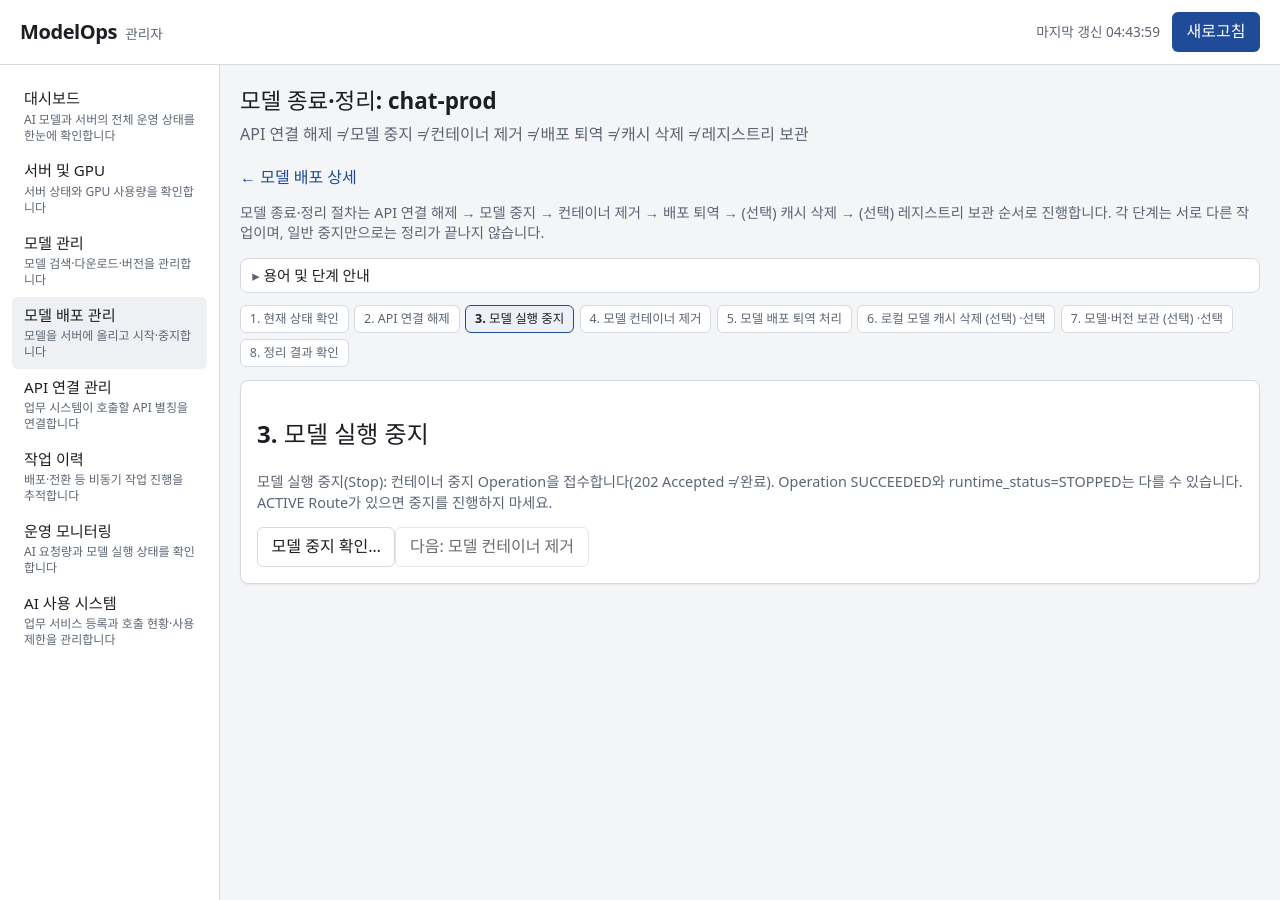
Test: DecommissionWizardPage › keeps operation_id when enqueue succeeds but detail fetch fails
Click the button "모델 중지 확인…".
click(326, 547)  # box [257,527,396,567]
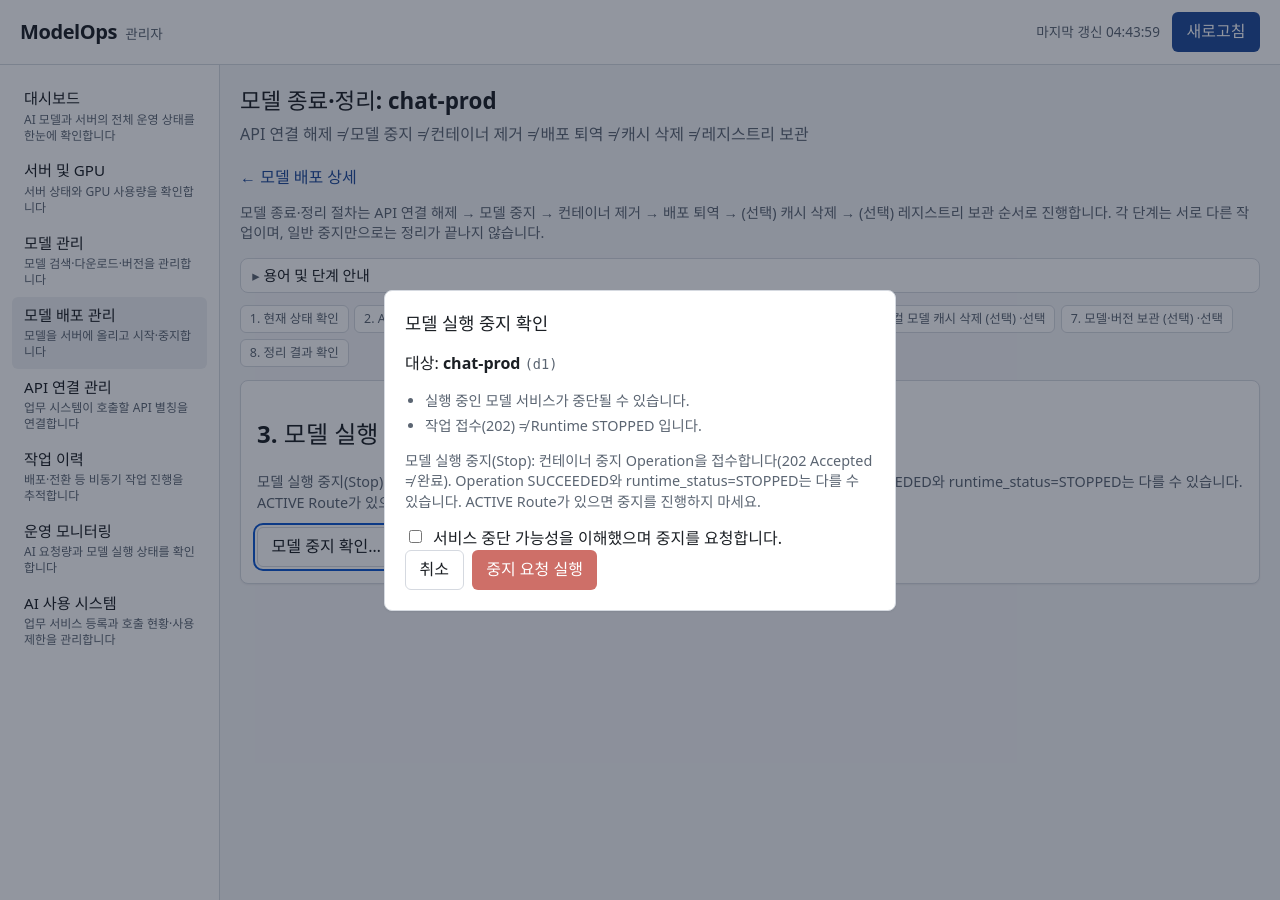
Click the checkbox.
click(416, 536)  # box [409,530,422,543]
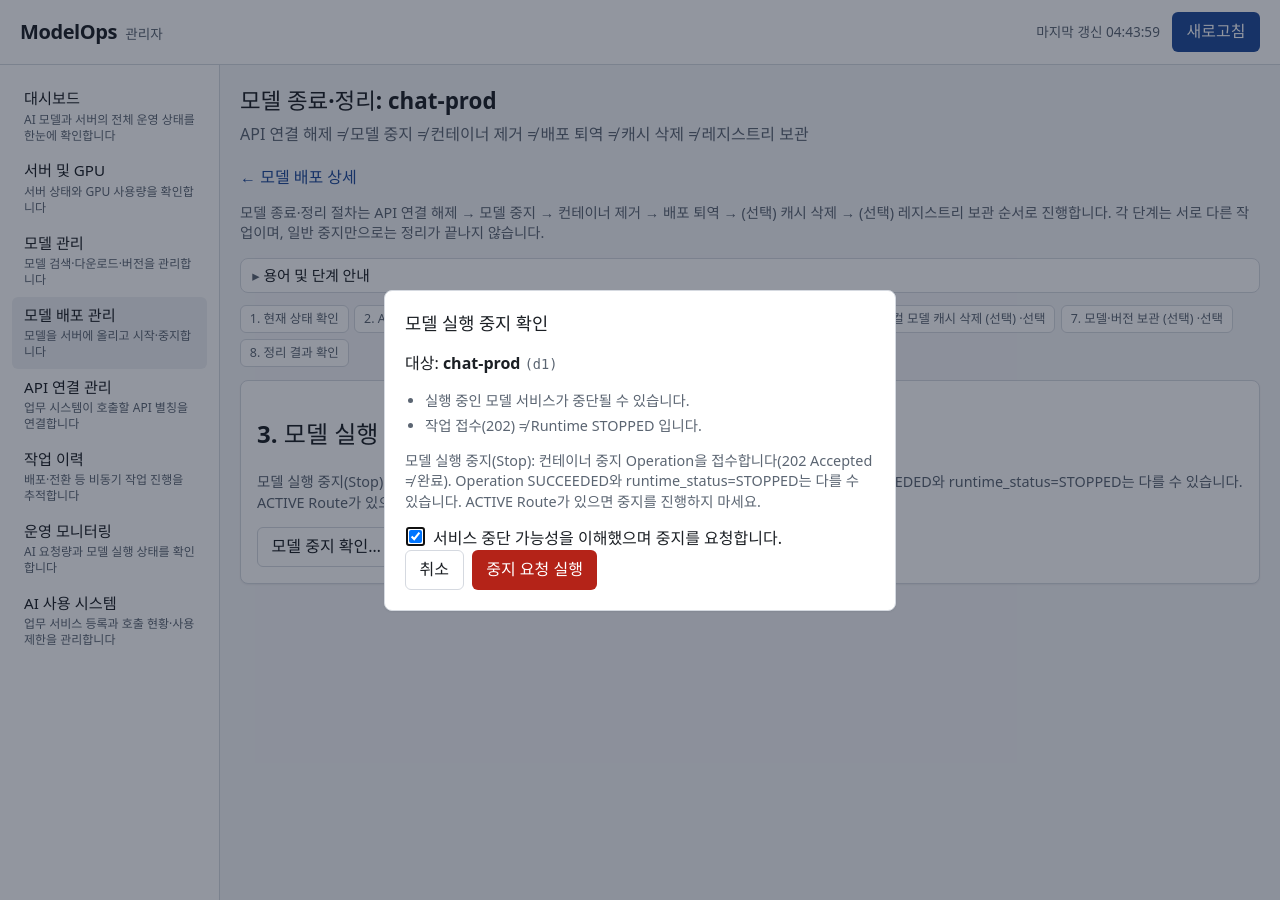
Click the button "중지 요청 실행".
click(534, 570)  # box [472,550,597,590]
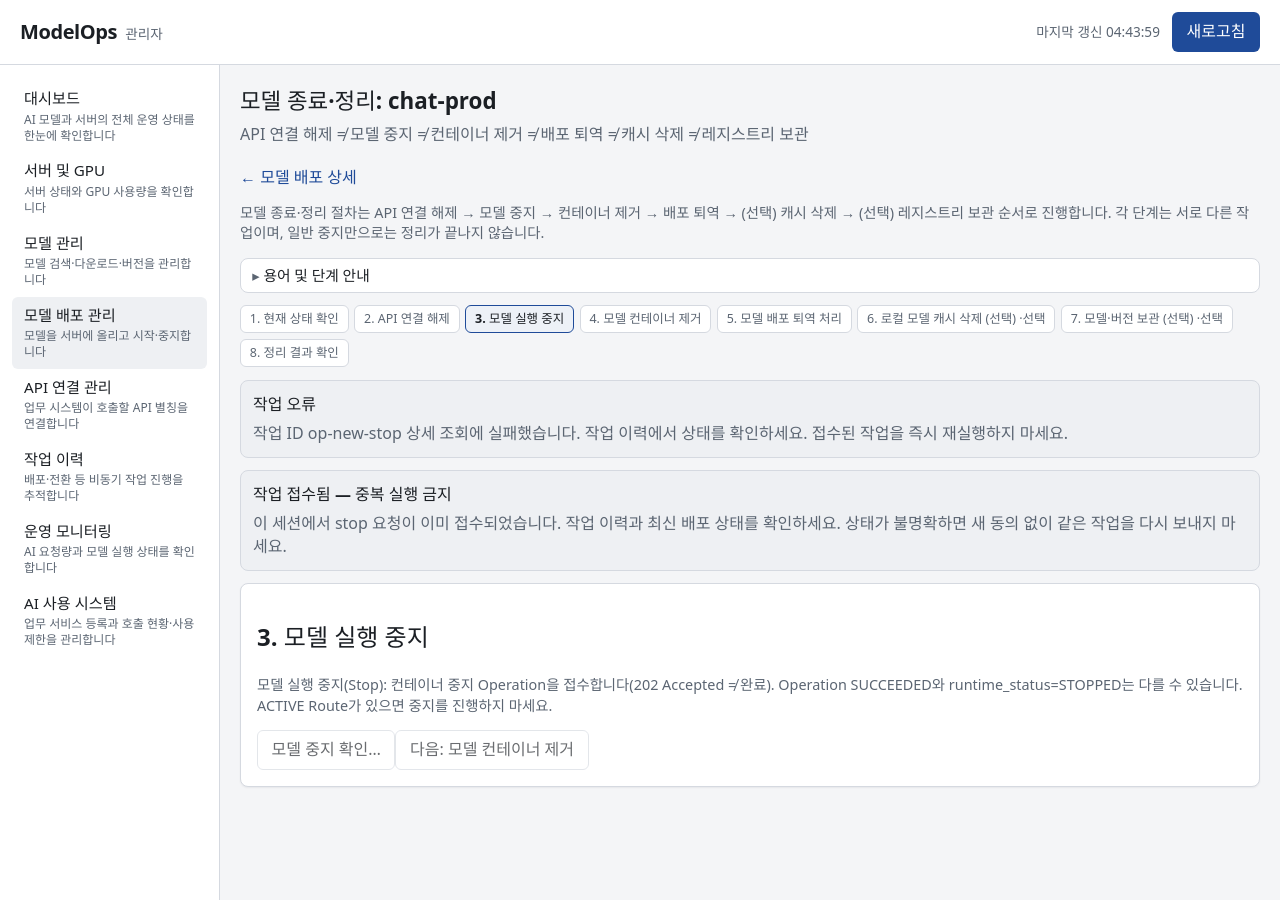
Now the text "중지 작업은 접수되었습니다" is shown, box [253,422,1068,444]
Now the dialog with test id "danger-confirm-dialog" is gone
Now the button "모델 중지 확인…" is disabled, box [257,730,396,770]
